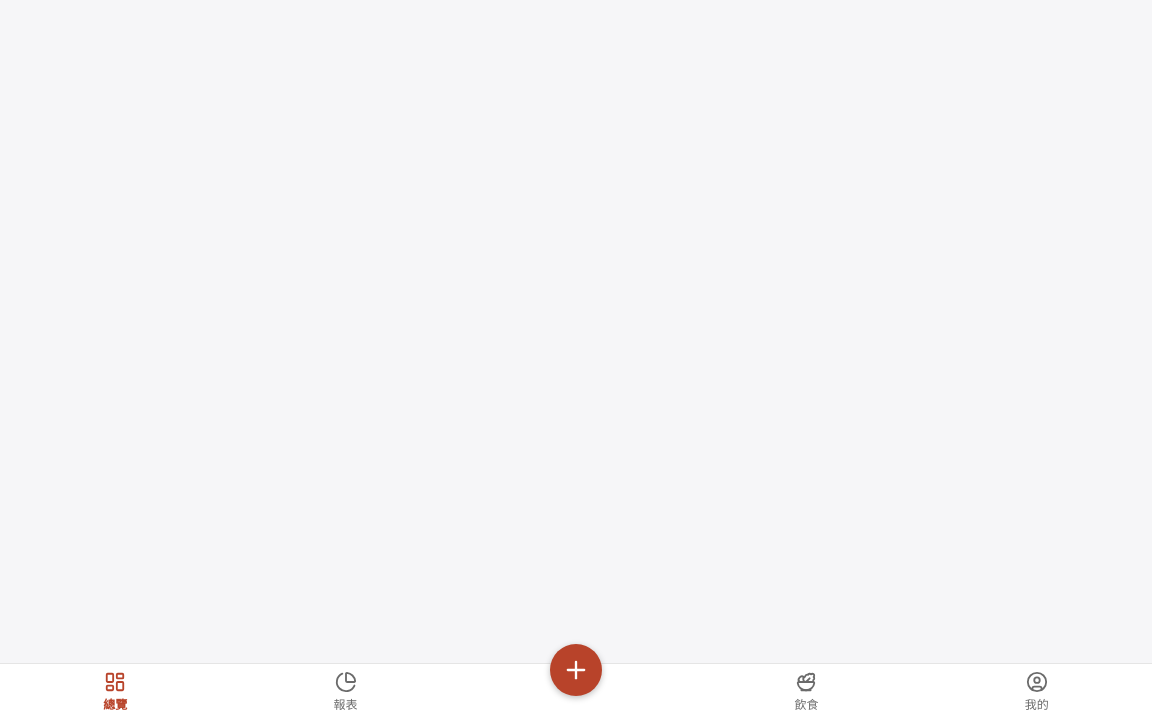
Test: TabBar › 「新增紀錄」打開面板，裡面有記帳與記一餐兩個入口
Click the button named "新增紀錄" at (576, 670), box [550,644,602,696]
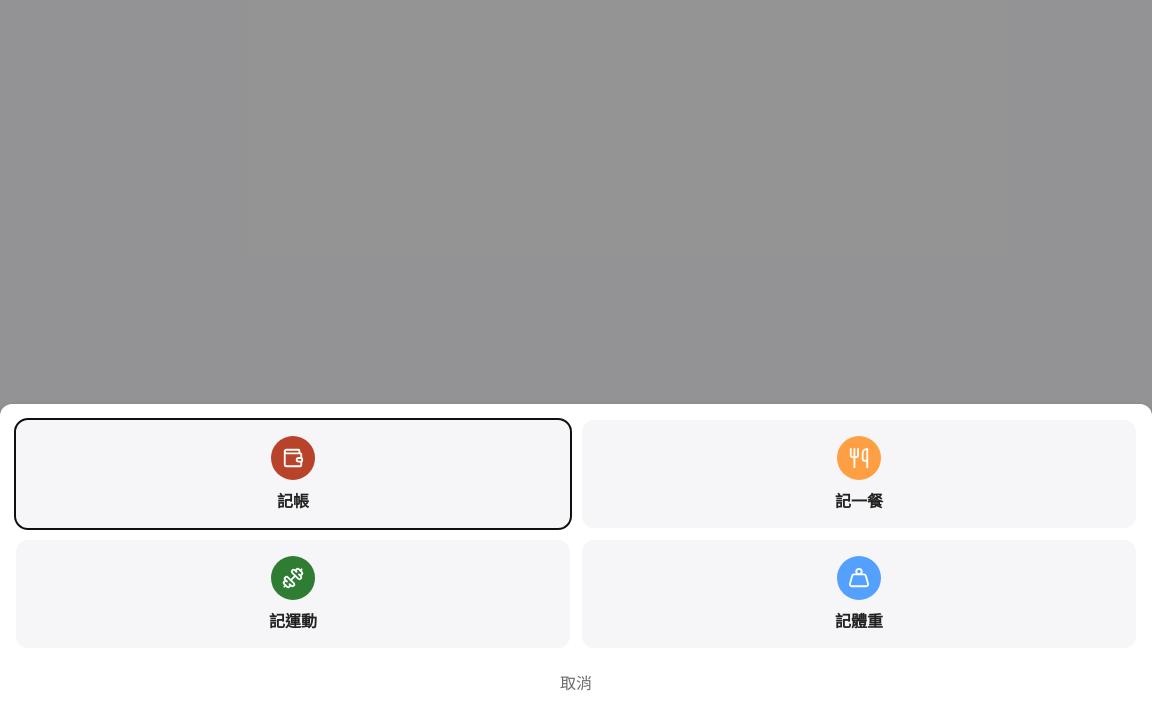
Expected: the dialog named "新增紀錄" is shown, [0,404,1151,719]
